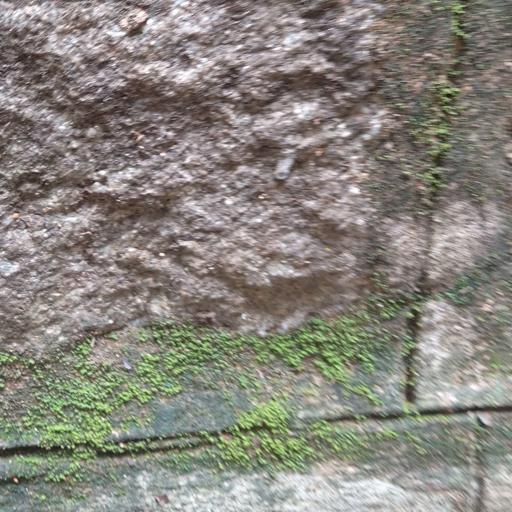algae: (0, 272, 512, 482)
